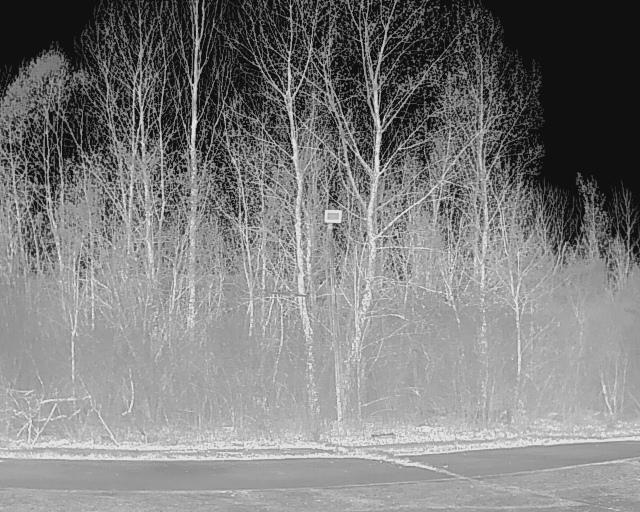drone: (259, 278, 317, 310)
